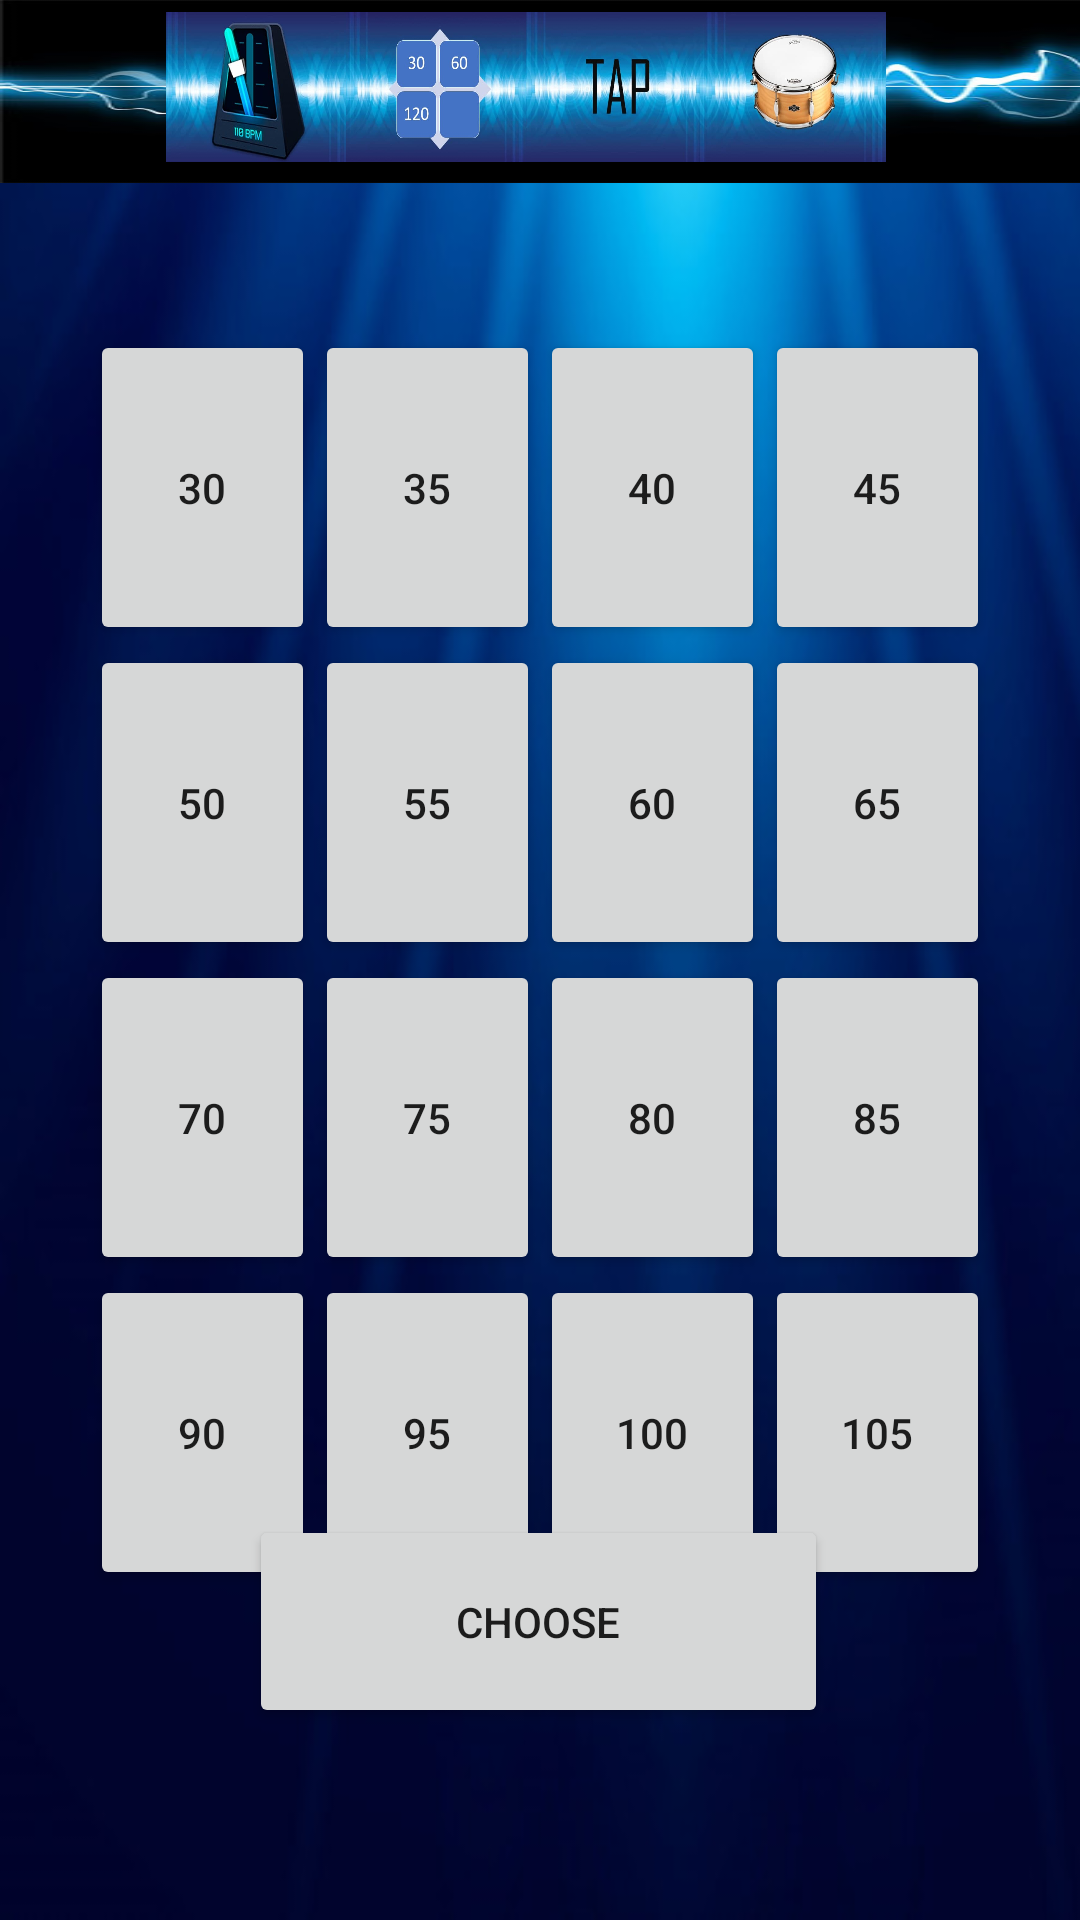

Where icons sit on this 1080px x 1920px app screen, as box=[x1, y1, x2, y2]:
metro: box=[166, 12, 346, 162]
